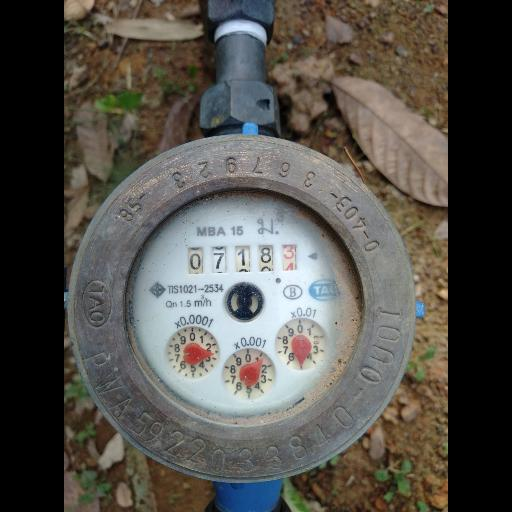0: (189, 247, 204, 274)
1: (236, 246, 250, 273)
3: (283, 245, 296, 271)
7: (213, 246, 227, 273)
8: (259, 245, 273, 272)
border_water_meter_number: (188, 243, 296, 273)
